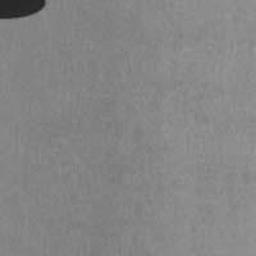Punching: (0, 0, 46, 19)
